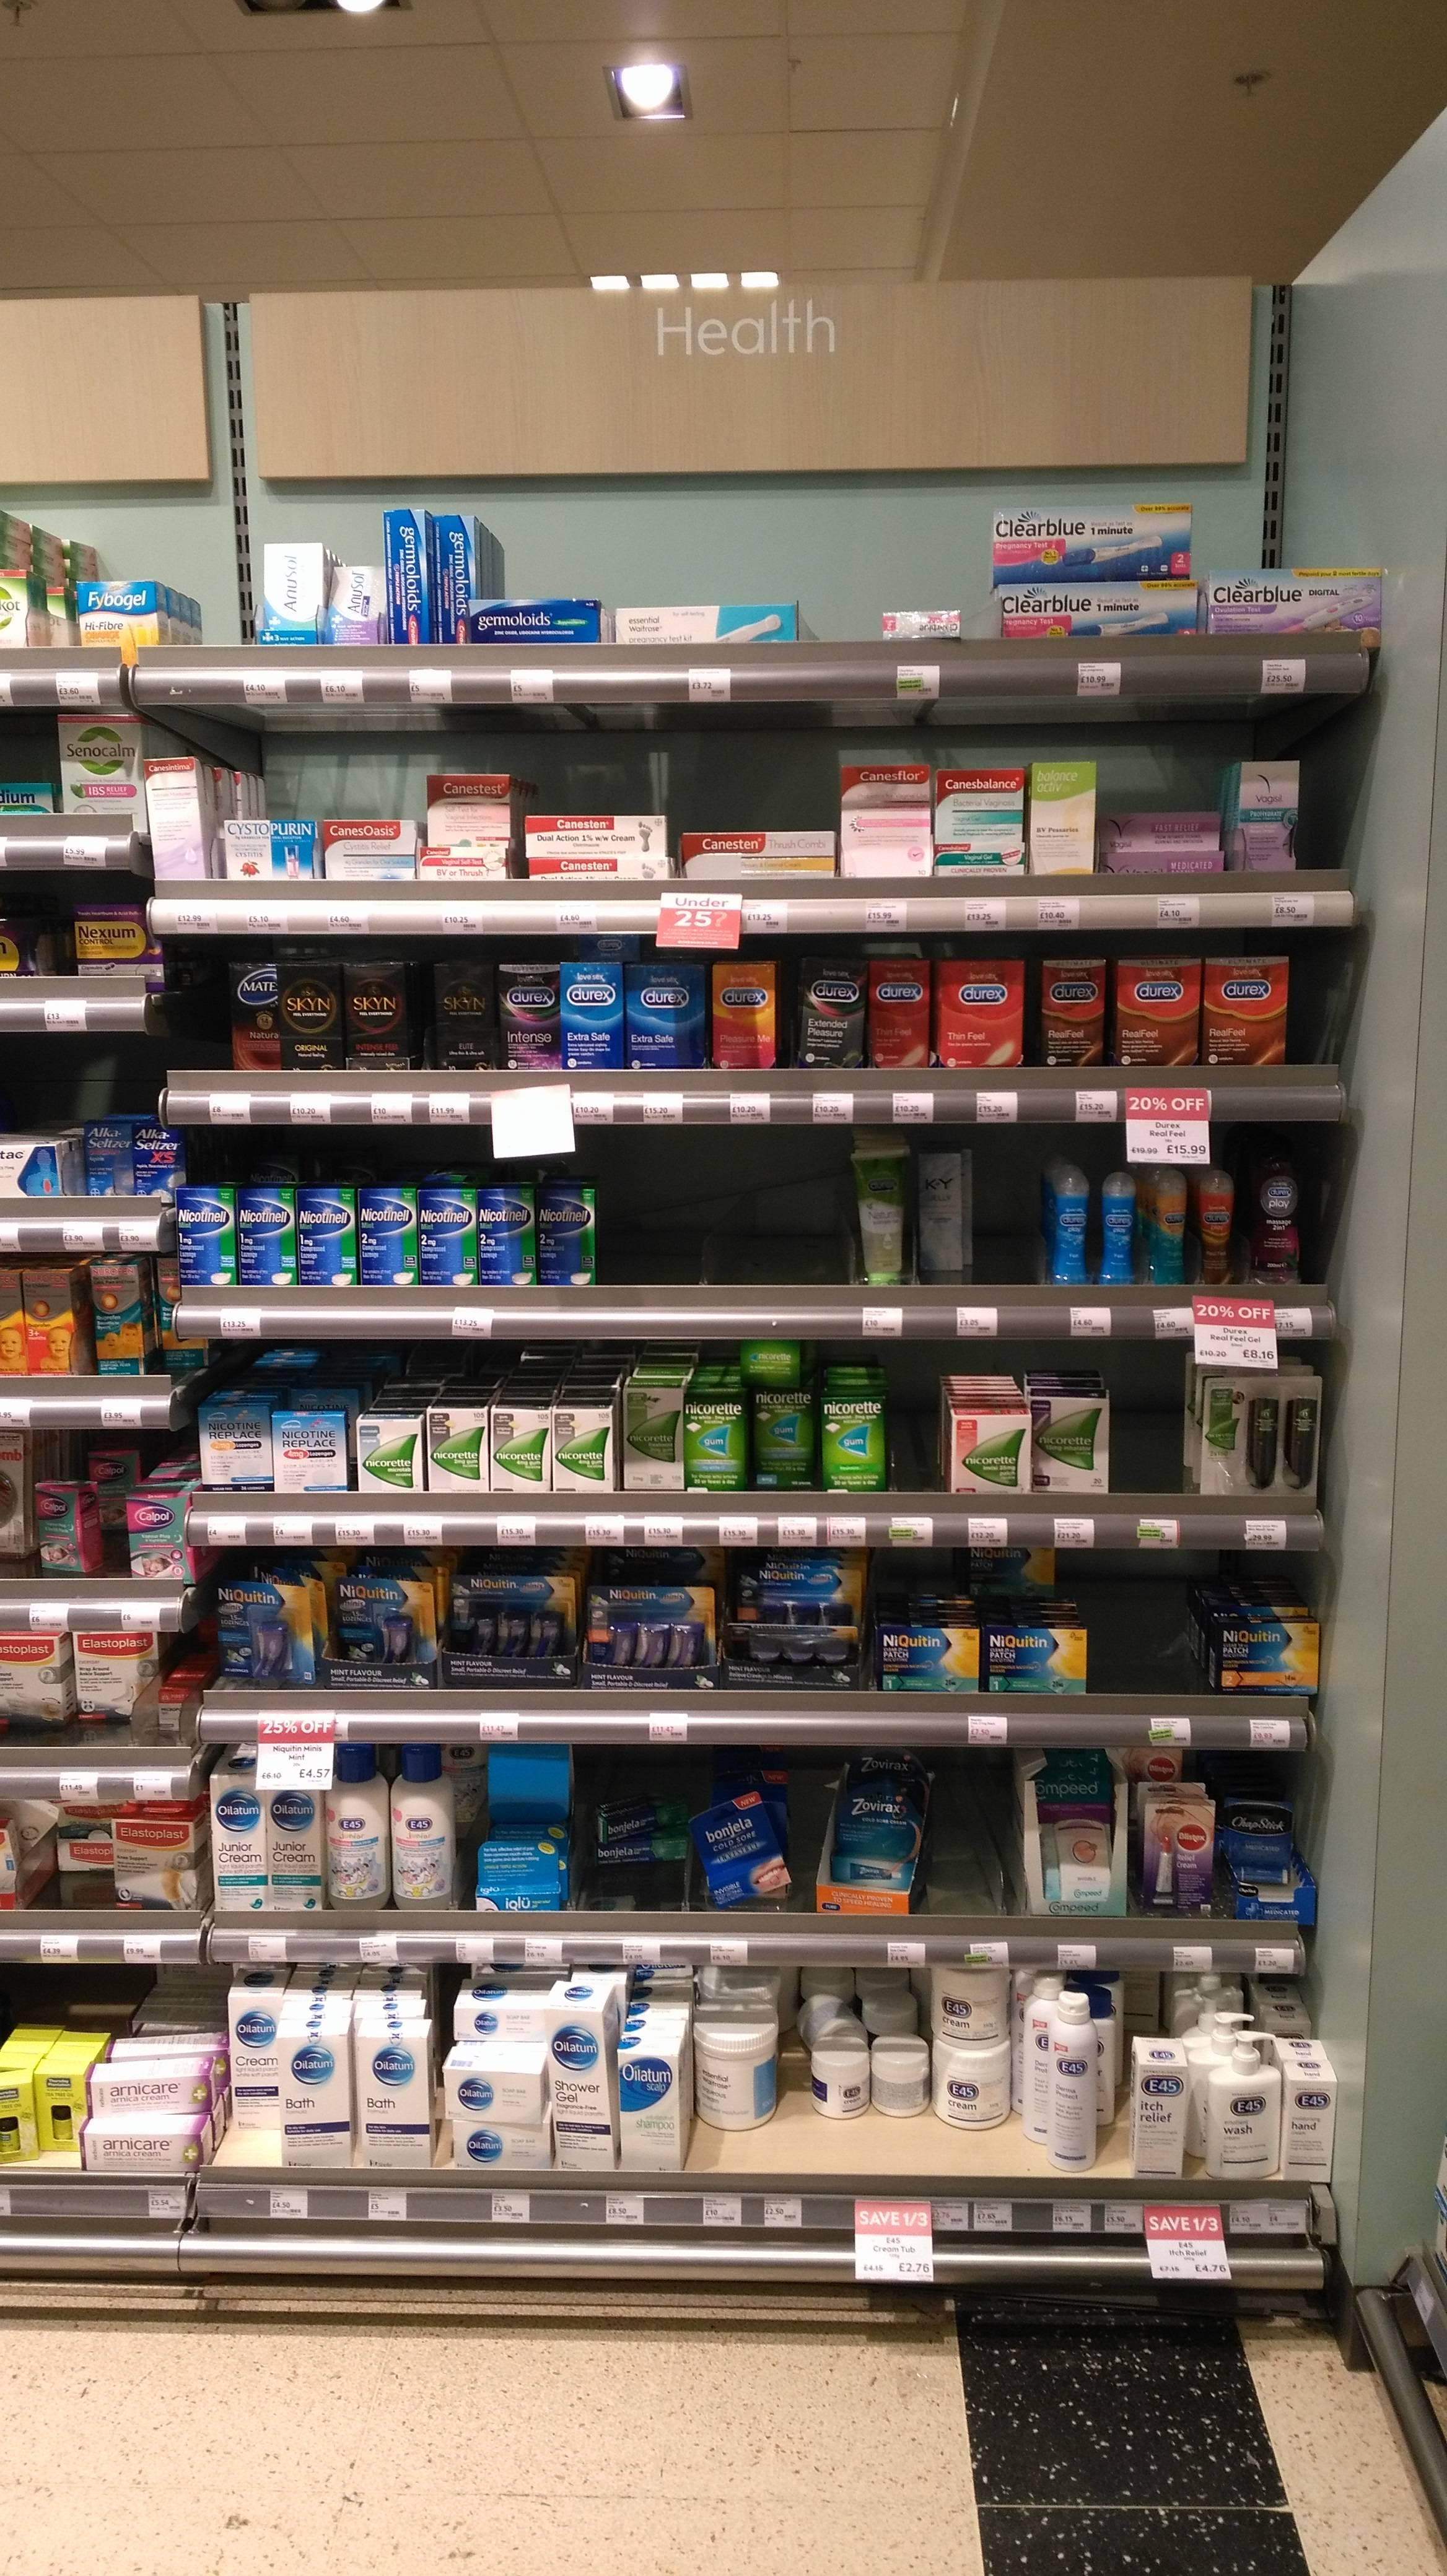empty: (614, 1155, 835, 1276), (1091, 1564, 1183, 1681), (1118, 1359, 1175, 1488), (934, 1778, 987, 1904), (984, 1154, 1033, 1284), (888, 1359, 939, 1479)
misalignment: (589, 1790, 798, 1904), (1044, 1982, 1113, 2174), (796, 1992, 872, 2043)
